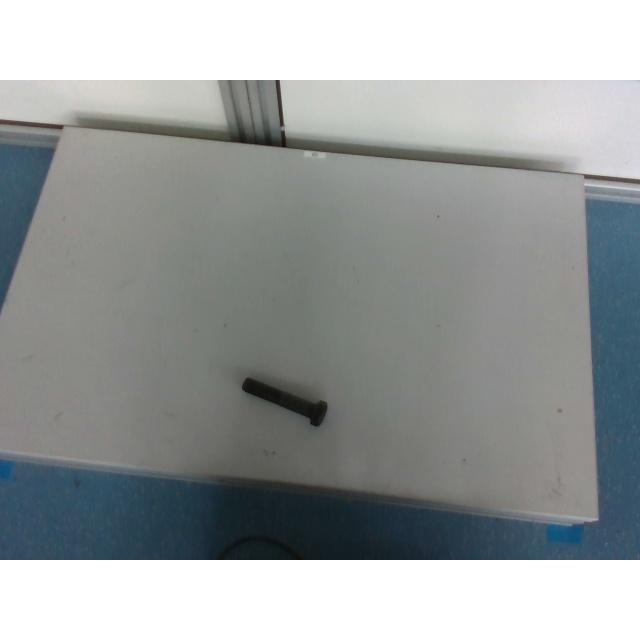M20_100: (242, 377, 326, 425)
